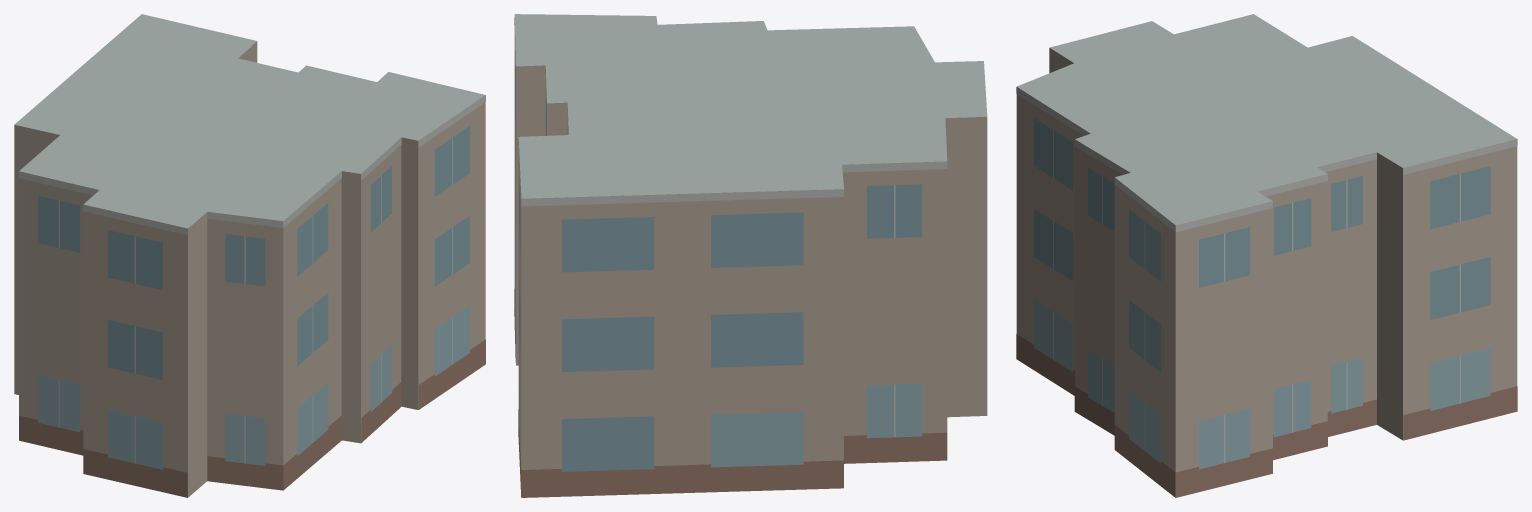
File: survey-upis-32526425.glb
3 views of the same model, side by side, from view 1: azimuth 30°, elevation 25°; view 2: azimuth 150°, elevation 25°; view 3: azimuth 270°, elevation 25° (orthographic). The views are drawn at different scales.
Visible parts, largest first — view 1: survey-upis-32526425.tmp; view 2: survey-upis-32526425.tmp; view 3: survey-upis-32526425.tmp.
Part boxes in pixels (left/top/right/bottom): survey-upis-32526425.tmp: left=14, top=14, right=485, bottom=497; survey-upis-32526425.tmp: left=514, top=14, right=987, bottom=497; survey-upis-32526425.tmp: left=1016, top=14, right=1517, bottom=497.
Bounding box in the file's own units: 15.81 × 9.5 × 15.84.
